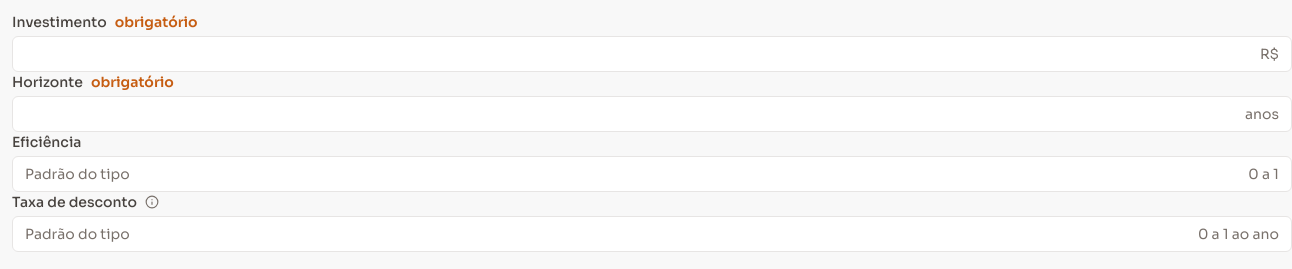
Test: creation: empty → user types → form › decimal: accepts a dot as the decimal separator and strips the rest
The image size is (1292, 269).
Type "0.85x" into the field labelled "Eficiência". click: (633, 174)
box: [25,160,1240,188]
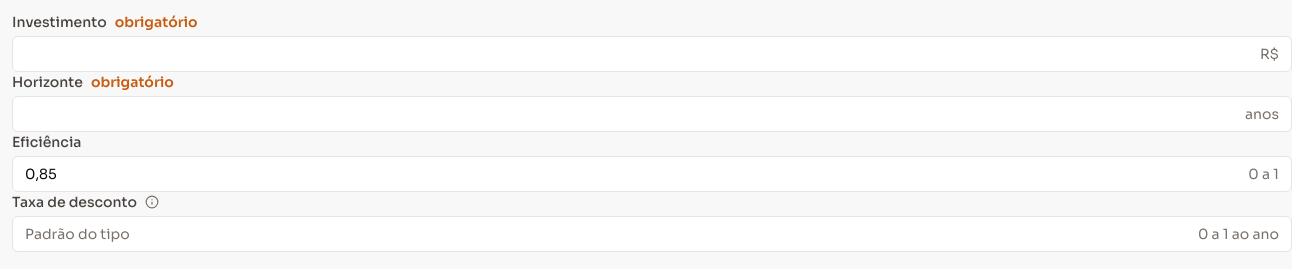
Result: the field labelled "Eficiência" holds "0,85" at [25,160,1240,188]
